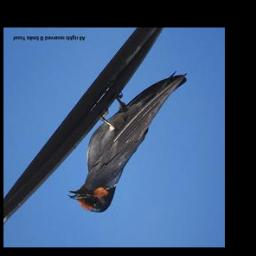Swallow: (69, 75, 189, 214)
